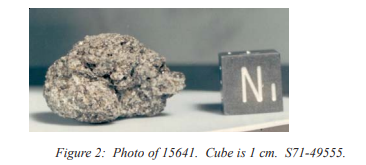Basalt: (38, 31, 185, 129)
